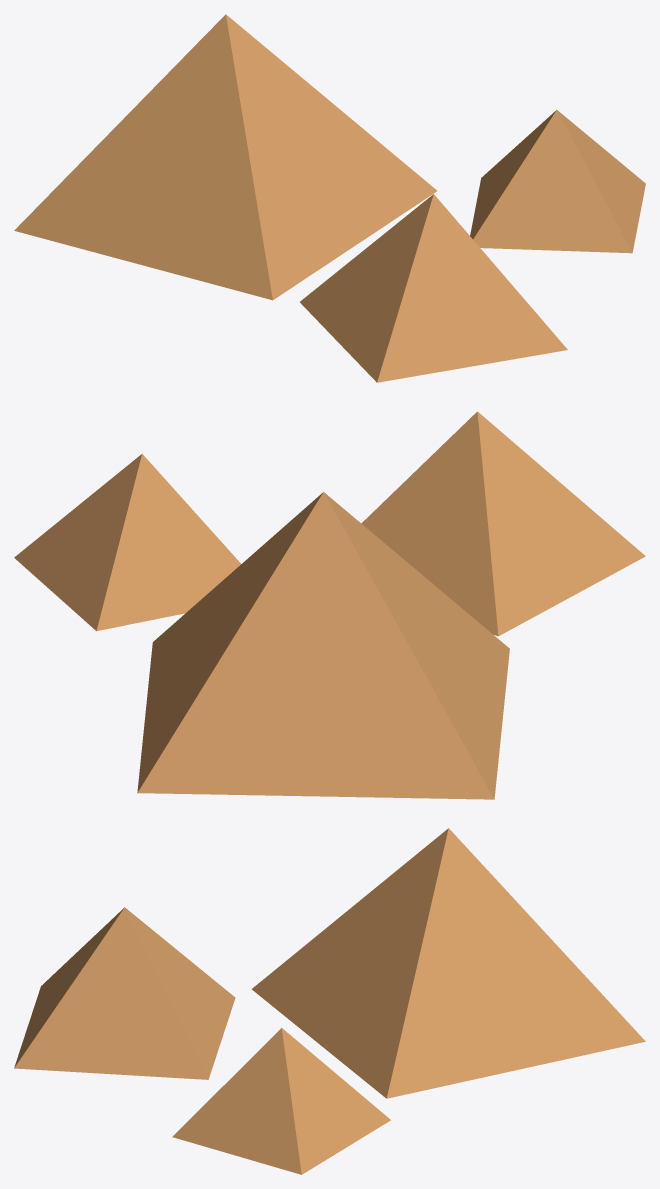
Rendered from Pyramids.fbx.
3 renders of one model, top to bottom at view 1: azimuth 30°, elevation 25°; view 2: azimuth 150°, elevation 25°; view 3: azimuth 270°, elevation 25°, orthographic. The views are drawn at different scales.
Parts seen in each view (by area): view 1: Pyramids; view 2: Pyramids; view 3: Pyramids.
Boxes of the visible parts, bbox=[...] form: Pyramids: bbox=[14, 14, 645, 382]; Pyramids: bbox=[14, 411, 645, 799]; Pyramids: bbox=[14, 828, 645, 1174].
Size of the model in its own units: 0.9006 by 0.3241 by 0.9905.
